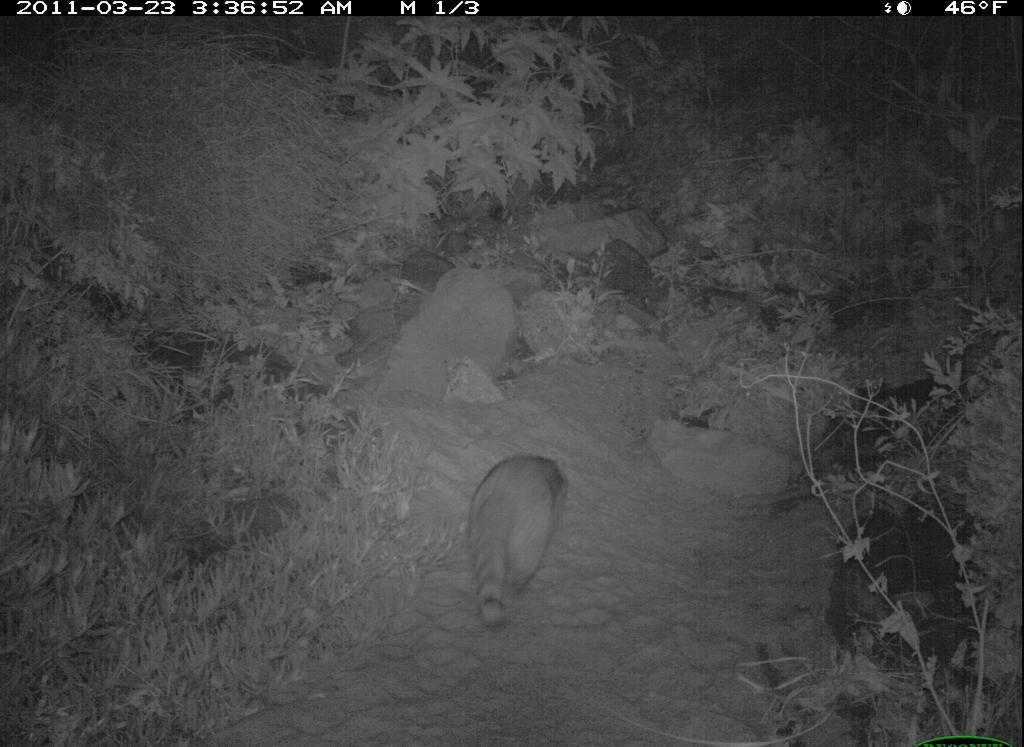raccoon: (441, 438, 591, 642)
